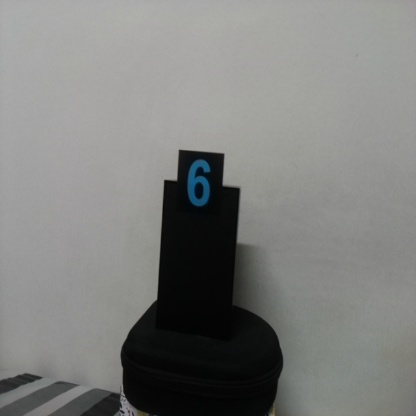id_6: (178, 151, 223, 227)
